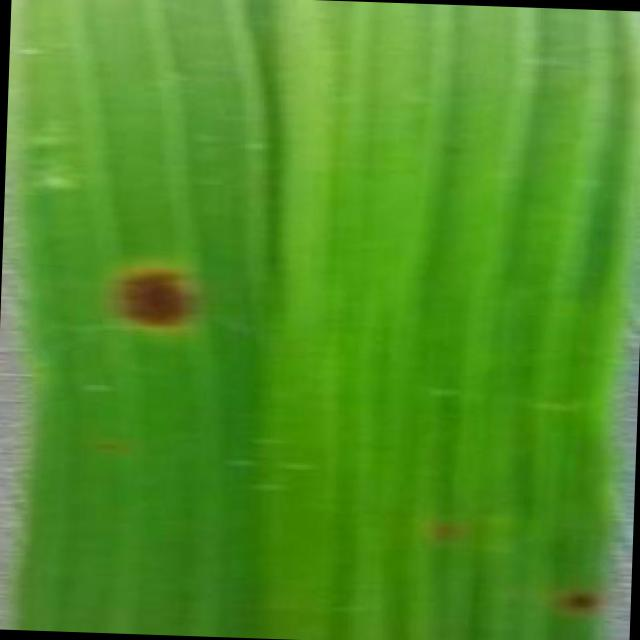Rice_Brownspot: (82, 235, 223, 352), (552, 569, 608, 625), (416, 509, 471, 552)
